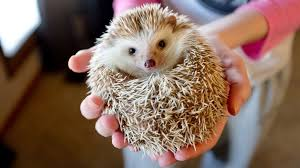hedgehog: (86, 10, 229, 147)
